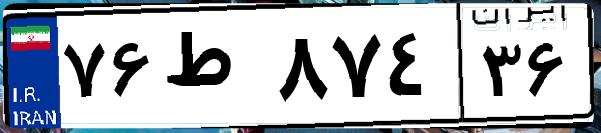3: (475, 38, 525, 113)
4: (385, 28, 445, 110)
6: (525, 38, 570, 115), (110, 28, 158, 98)
7: (330, 28, 385, 110), (57, 26, 110, 100)
8: (270, 28, 330, 110)
ط: (158, 20, 270, 120)
